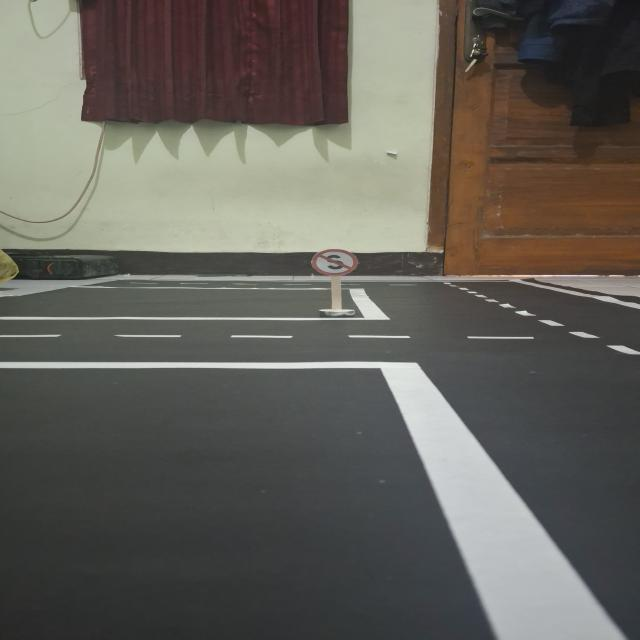Rambu Berhenti: (311, 249, 358, 275)
